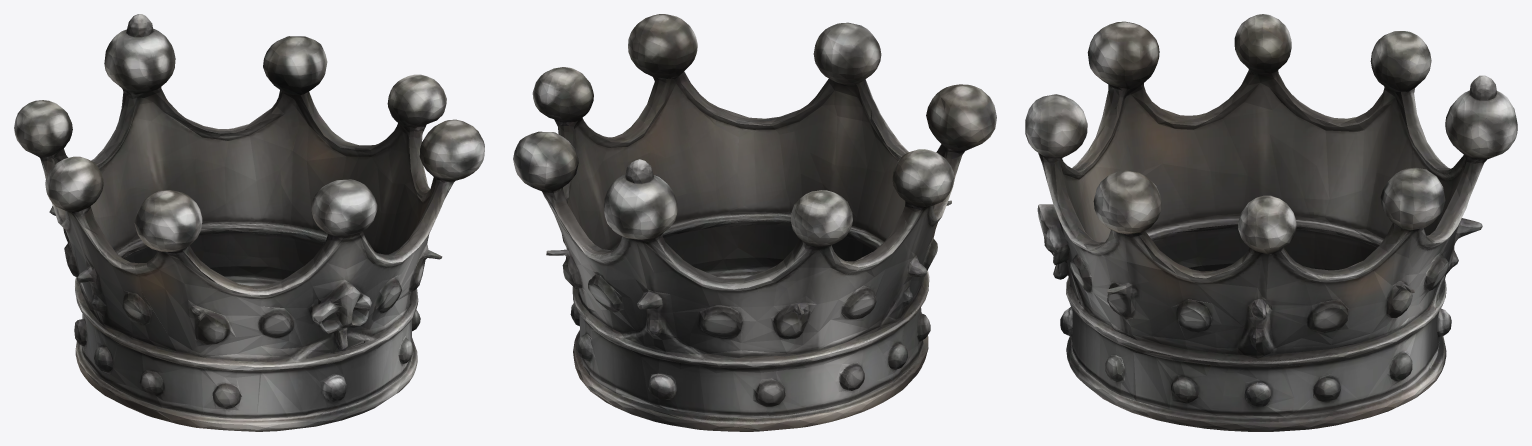
The model's file is jeweled-crown.glb.
3 views of the same model, side by side, from view 1: azimuth 30°, elevation 25°; view 2: azimuth 150°, elevation 25°; view 3: azimuth 270°, elevation 25° (orthographic). The views are drawn at different scales.
Visible parts, largest first — view 1: world; view 2: world; view 3: world.
Boxes of the visible parts, x1,y1,x2,y2 form: world: (14,14,484,431); world: (513,14,996,431); world: (1025,14,1517,431).
Size of the model in its own units: 0.9841 by 0.6348 by 0.9985.
1 material, 1 textured.
